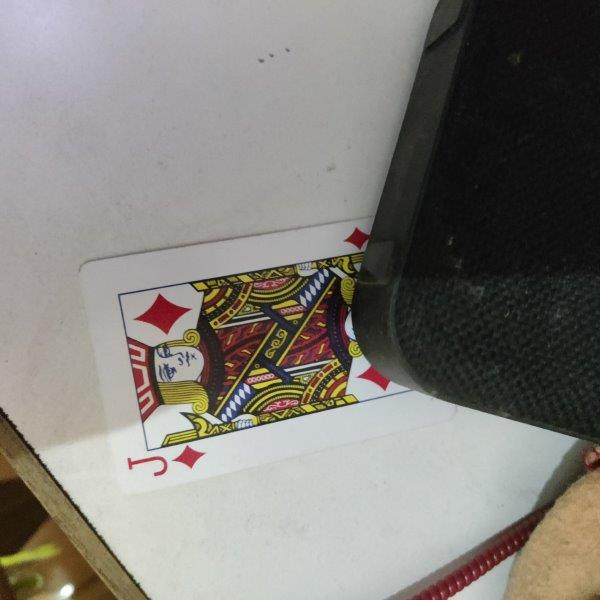Jack of Diamonds: (77, 214, 457, 491)
